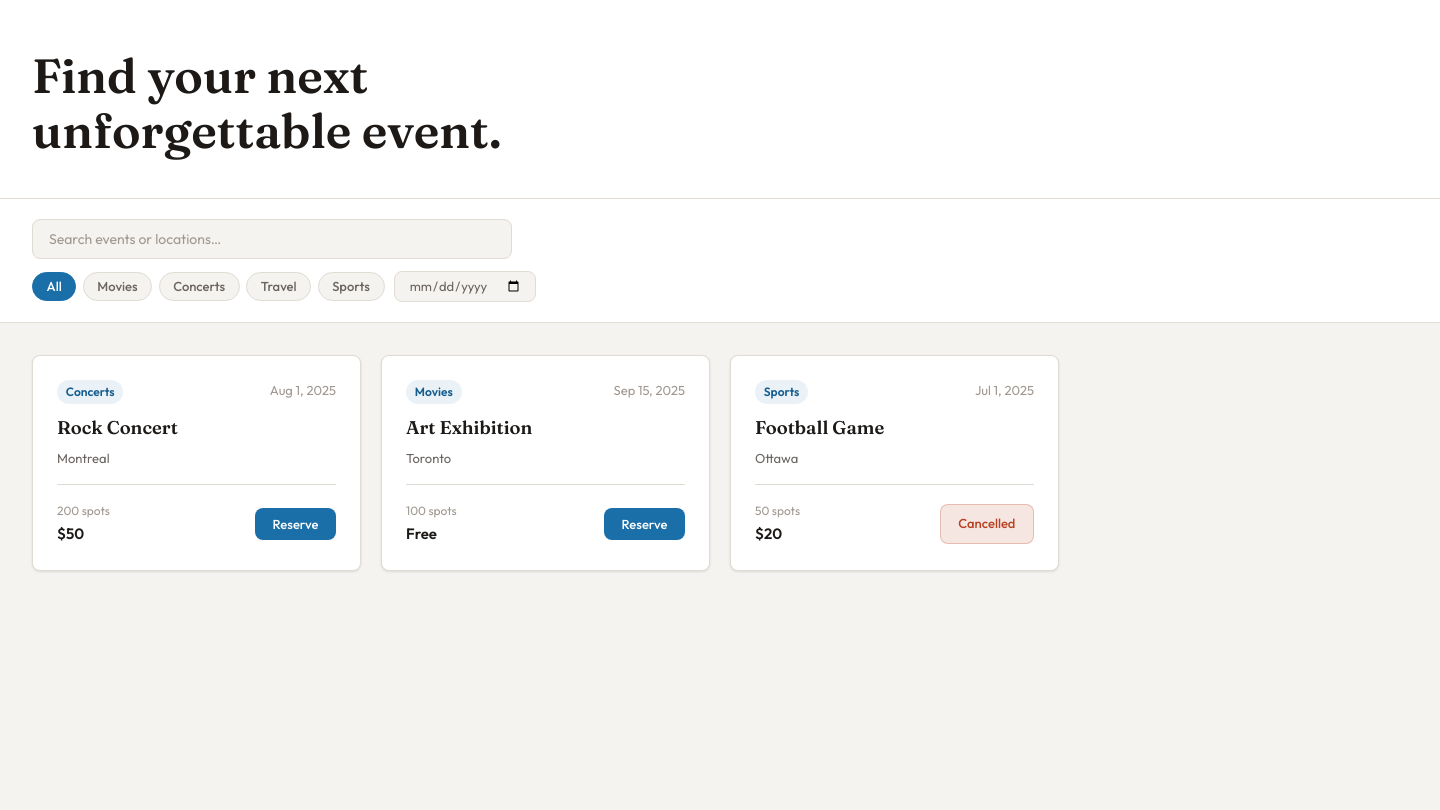
Test: HomePage — filtering by category › shows all events when All is selected
The width and height of the screenshot is (1440, 810).
Click the button "Concerts".
click(199, 286)  # box [159, 272, 240, 301]
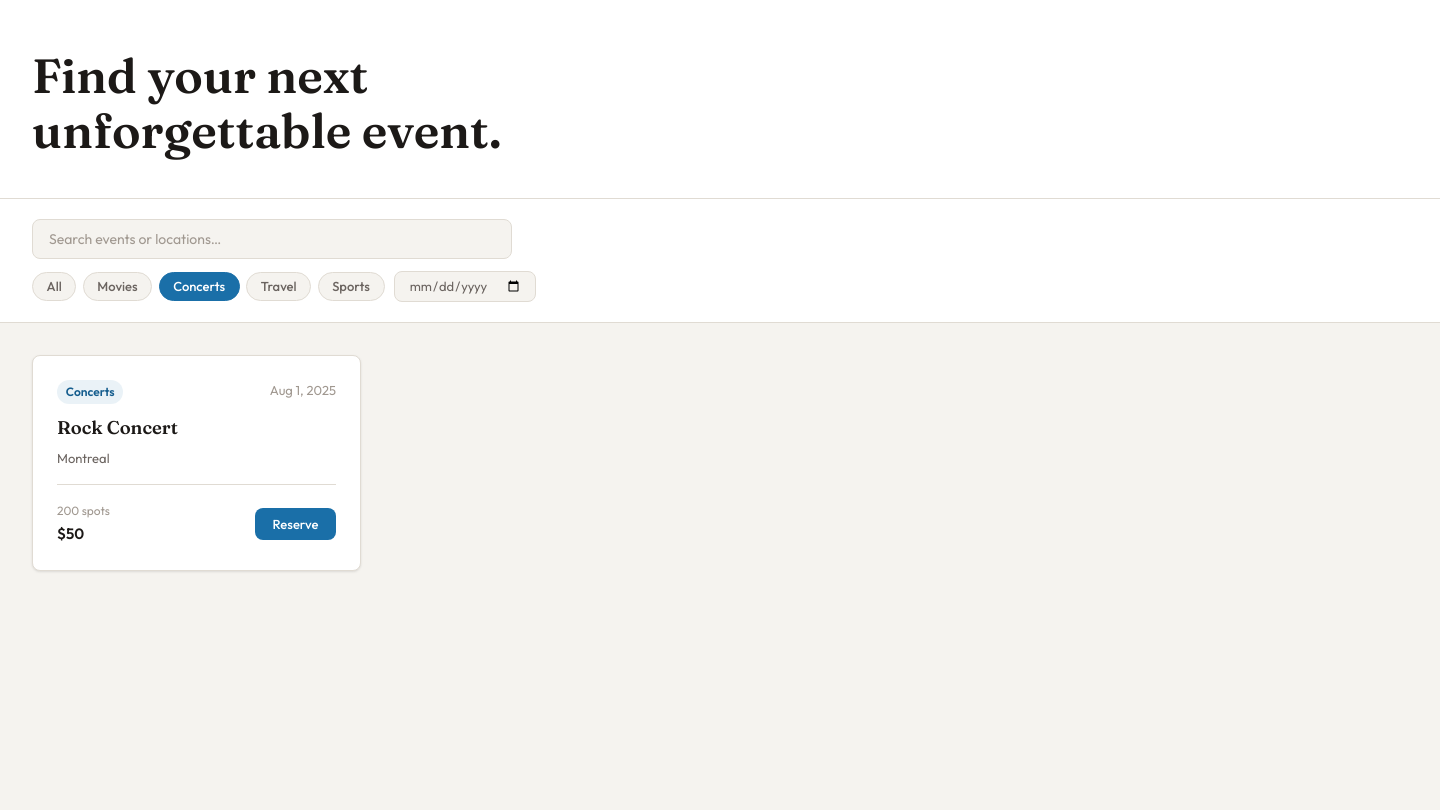
Click the button "All".
click(54, 286)  # box [32, 272, 76, 301]
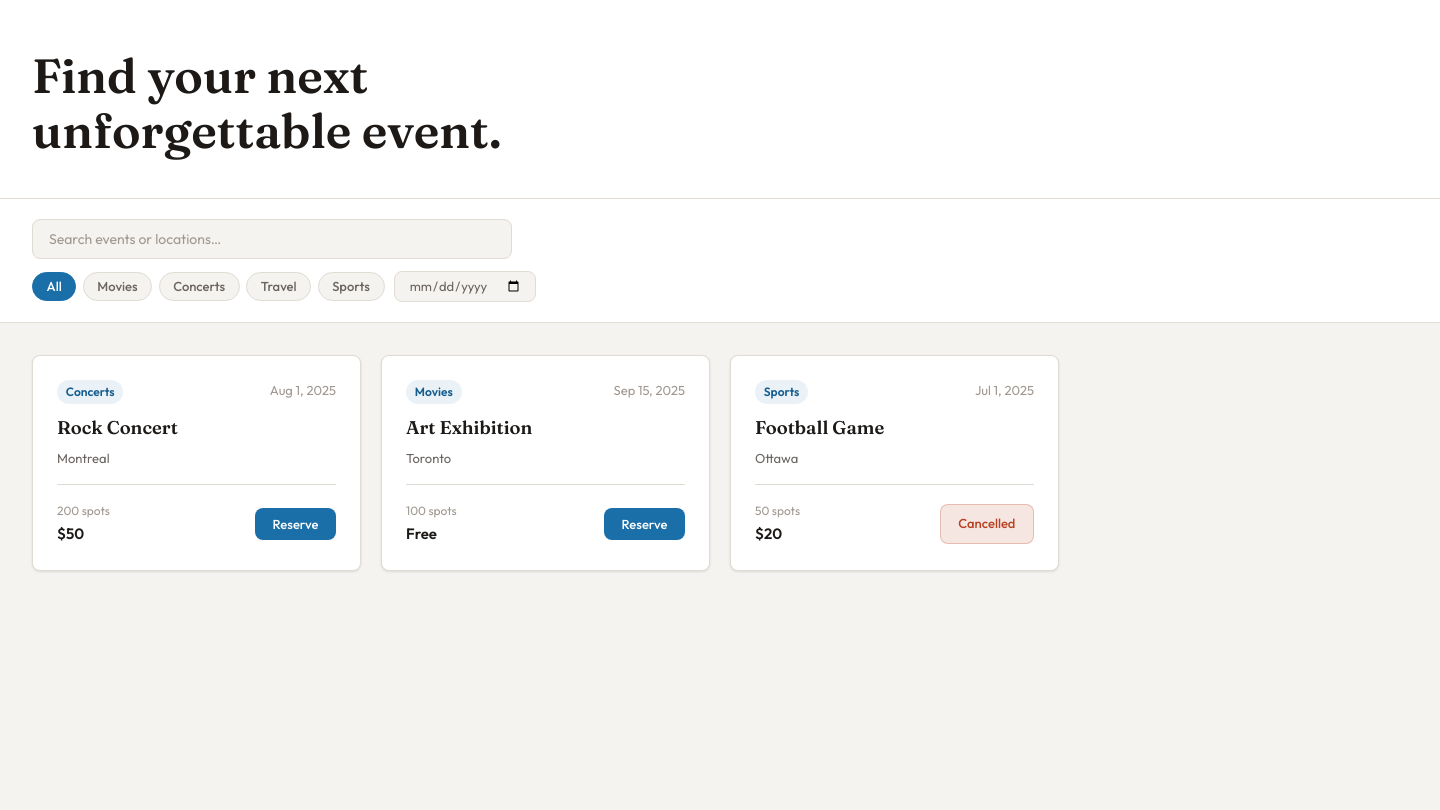
Expected: the heading "Rock Concert" is shown, [57, 416, 178, 439]
Result: the heading "Art Exhibition" is shown at [406, 416, 532, 439]
